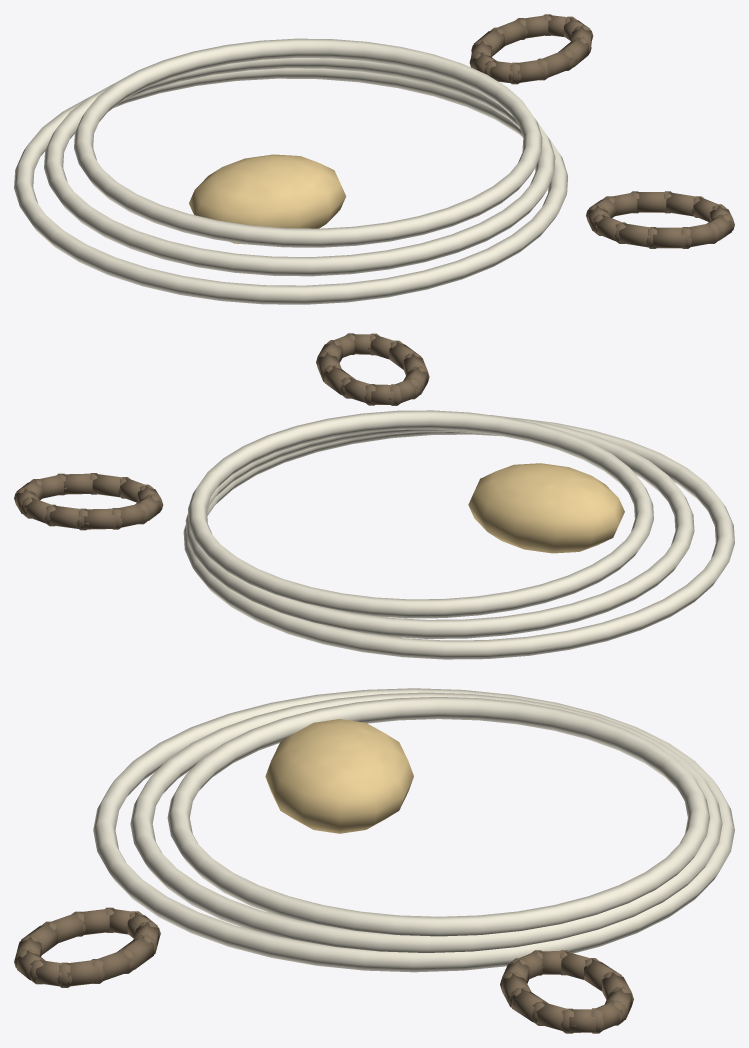
Rendered from FL_Bowstring.fbx.
3 views of the same model, one above another, from view 1: azimuth 30°, elevation 25°; view 2: azimuth 150°, elevation 25°; view 3: azimuth 270°, elevation 25° (orthographic). The views are drawn at different scales.
Visible parts, largest first — view 1: FL_Bowstring; view 2: FL_Bowstring; view 3: FL_Bowstring.
Boxes of the visible parts, x1=… form: FL_Bowstring: x1=14, y1=14, x2=734, y2=304; FL_Bowstring: x1=14, y1=333, x2=734, y2=659; FL_Bowstring: x1=14, y1=688, x2=734, y2=1033.
Size of the model in its own units: 0.0109 by 0.0012 by 0.0097.
